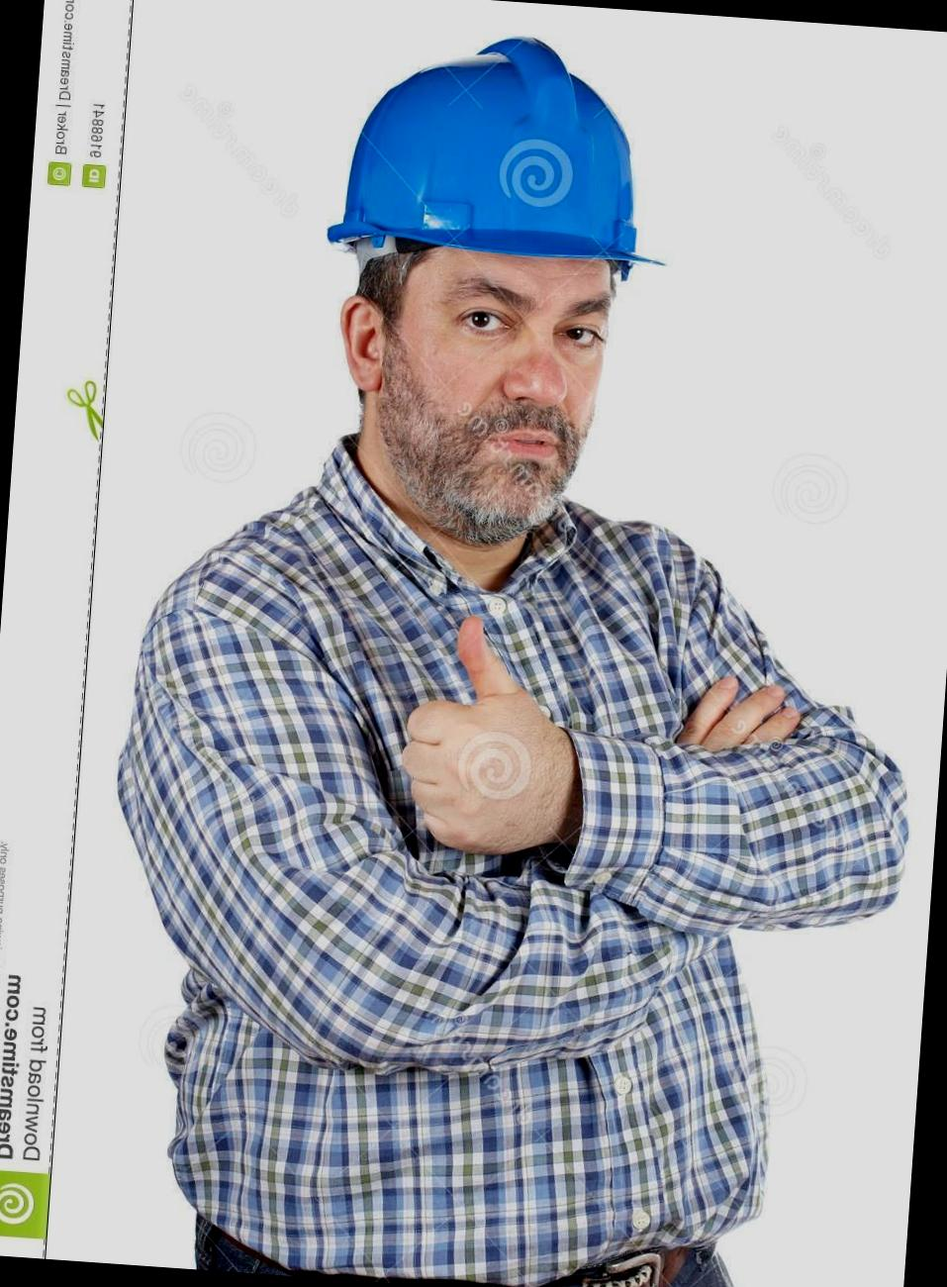helmet: (313, 18, 688, 276)
no_vest: (93, 451, 752, 1287)
person: (65, 0, 838, 1287)
